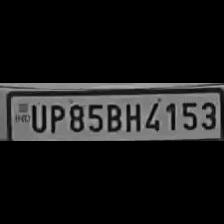1: (162, 99, 178, 131)
3: (199, 98, 217, 130)
4: (142, 98, 162, 132)
5: (178, 98, 198, 130), (86, 100, 104, 134)
8: (66, 101, 84, 133)
B: (103, 100, 121, 134)
H: (122, 99, 140, 133)
P: (46, 102, 64, 134)
U: (28, 101, 46, 133)
